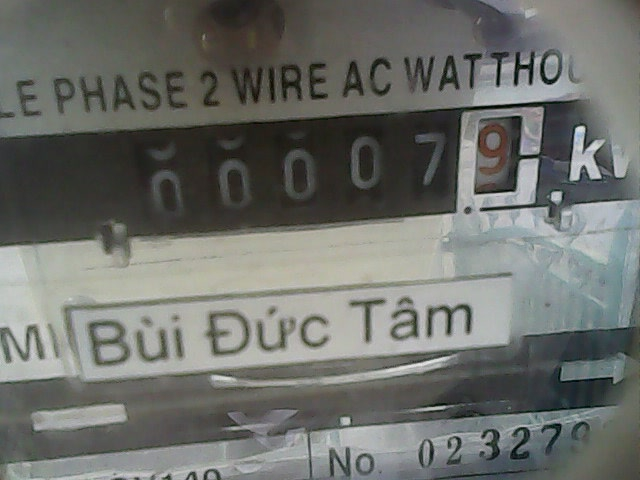phy_plate: (121, 100, 553, 224)
